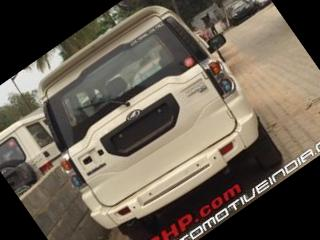plate: (96, 82, 199, 171)
